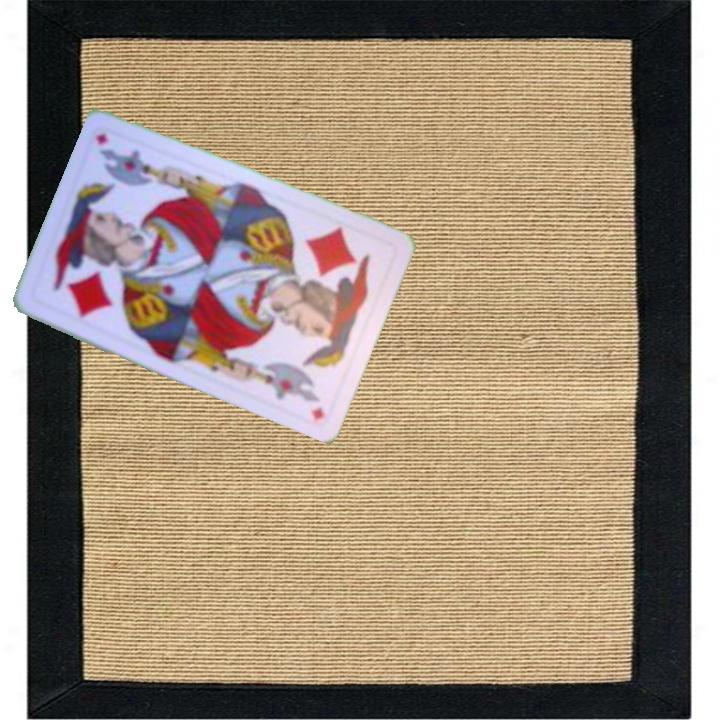d_j.png: (28, 210, 144, 334), (282, 214, 398, 337)
